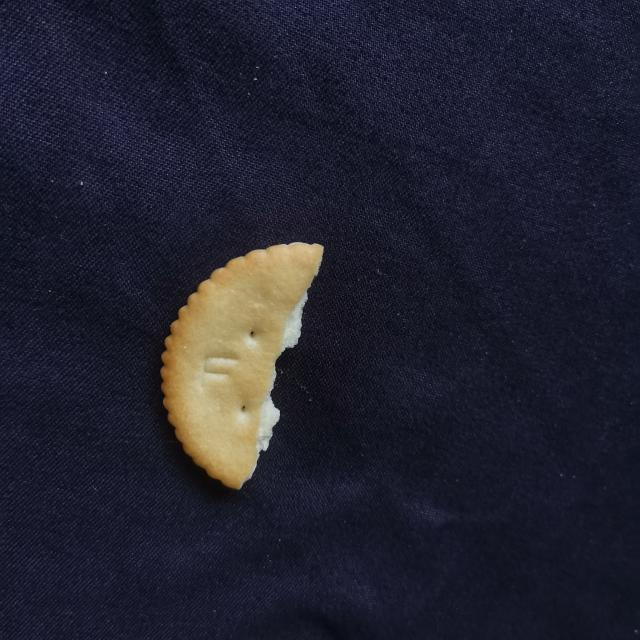Broken: (159, 241, 325, 491)
